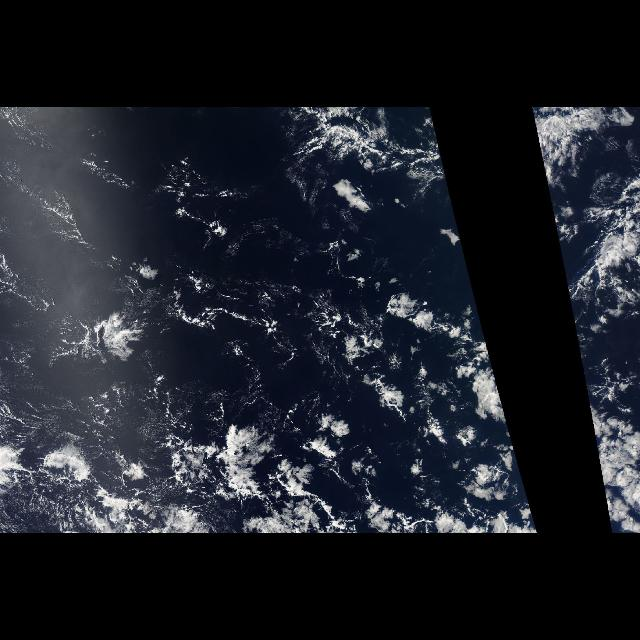Flower: (18, 259, 536, 523), (562, 259, 634, 523)
